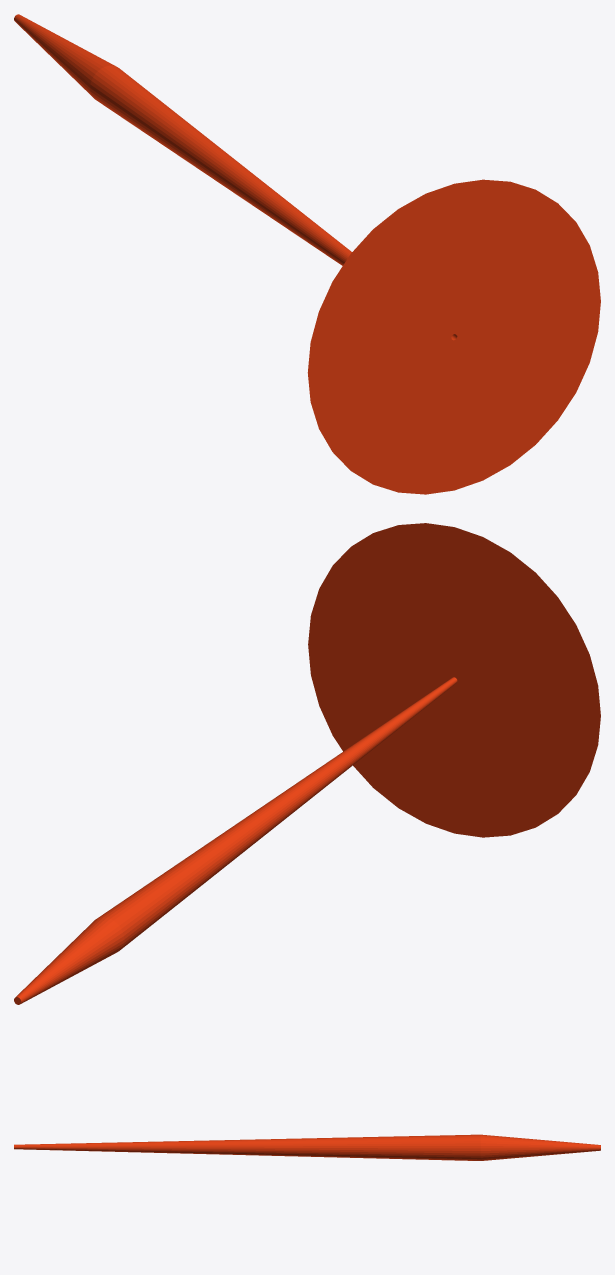
File: Billiard_Cursor_10_29.fbx
The picture shows the model from 3 angles, top to bottom: view 1: azimuth 30°, elevation 25°; view 2: azimuth 150°, elevation 25°; view 3: azimuth 270°, elevation 25°; orthographic projection. The views are drawn at different scales.
Visible parts, largest first — view 1: 円柱; view 2: 円柱; view 3: 円柱.
Part boxes in pixels (x1=…): 円柱: x1=14, y1=14, x2=600, y2=494; 円柱: x1=14, y1=523, x2=600, y2=1004; 円柱: x1=14, y1=1134, x2=600, y2=1160.
Bounding box in the file's own units: 200 × 200 × 517.
